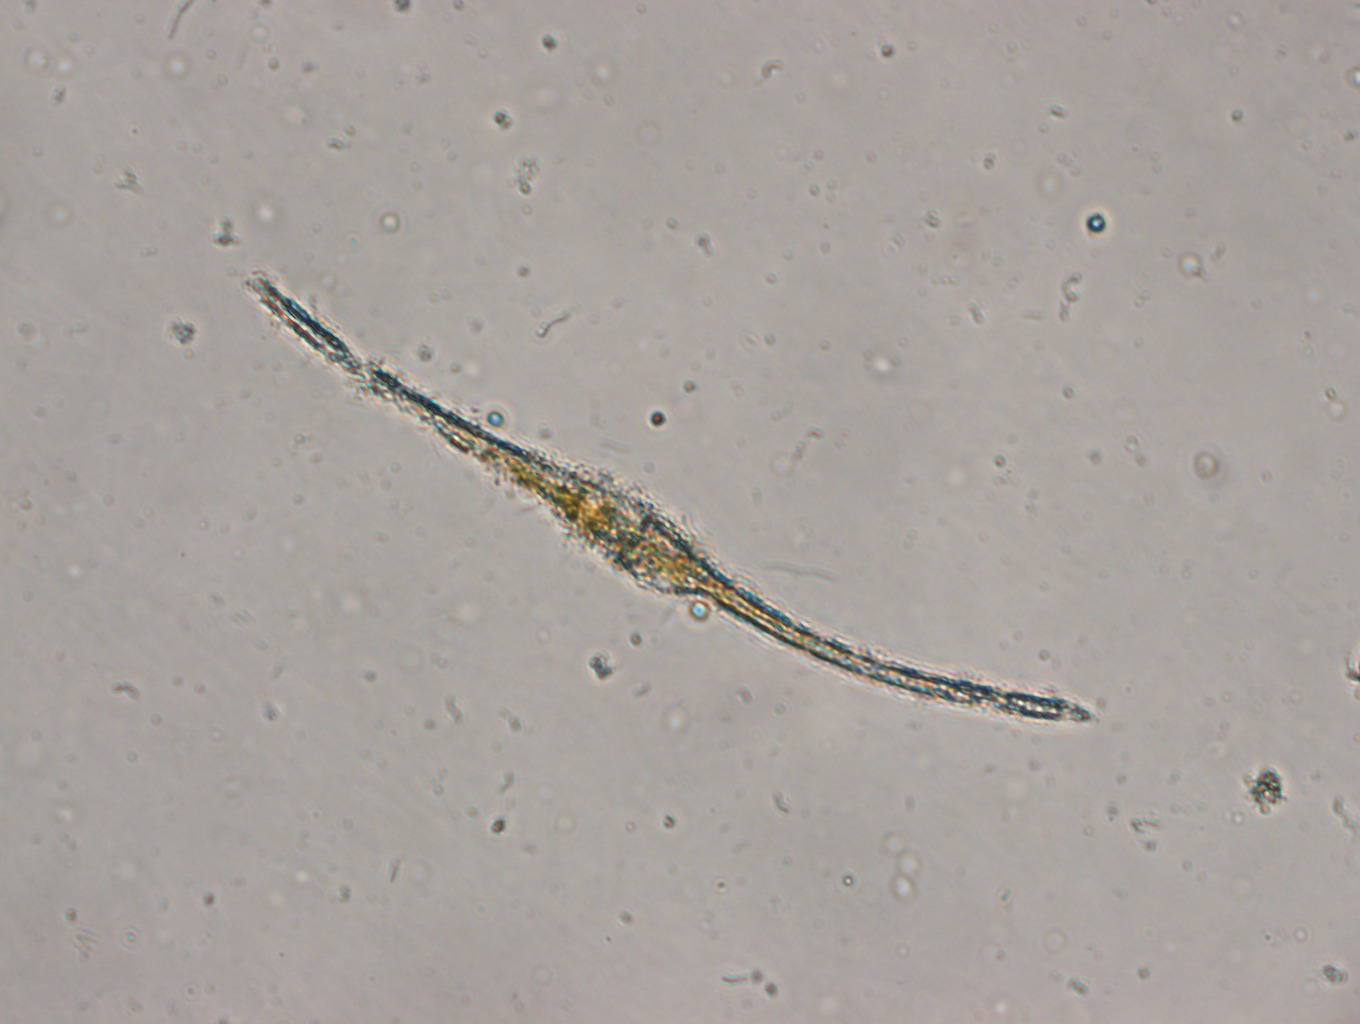ceratium fusus: (240, 268, 1094, 737)
